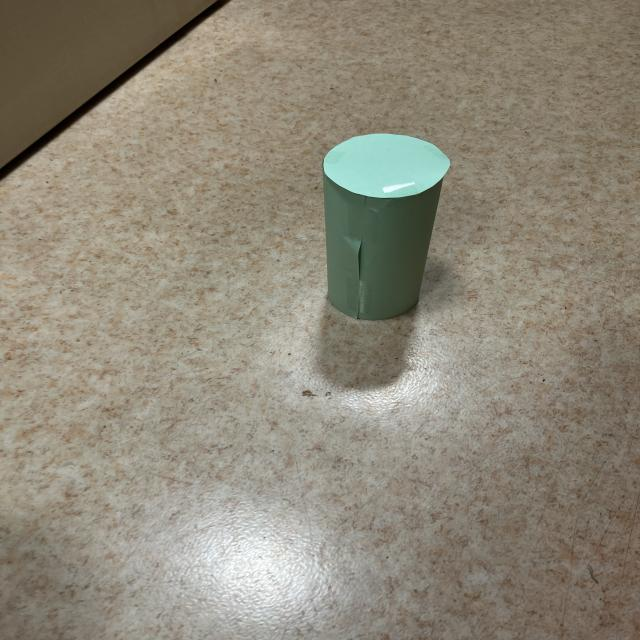meta: (323, 134, 450, 320)
